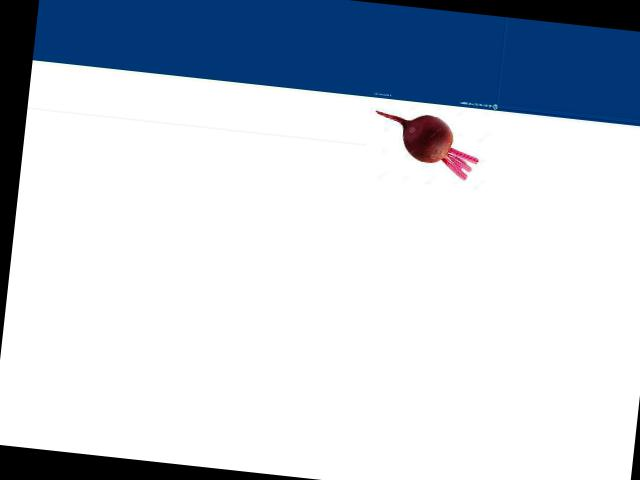beet: (370, 110, 481, 180)
